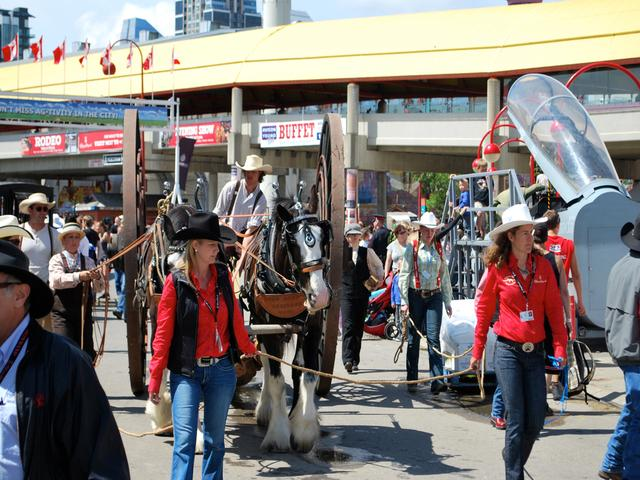horse: (236, 195, 348, 463)
